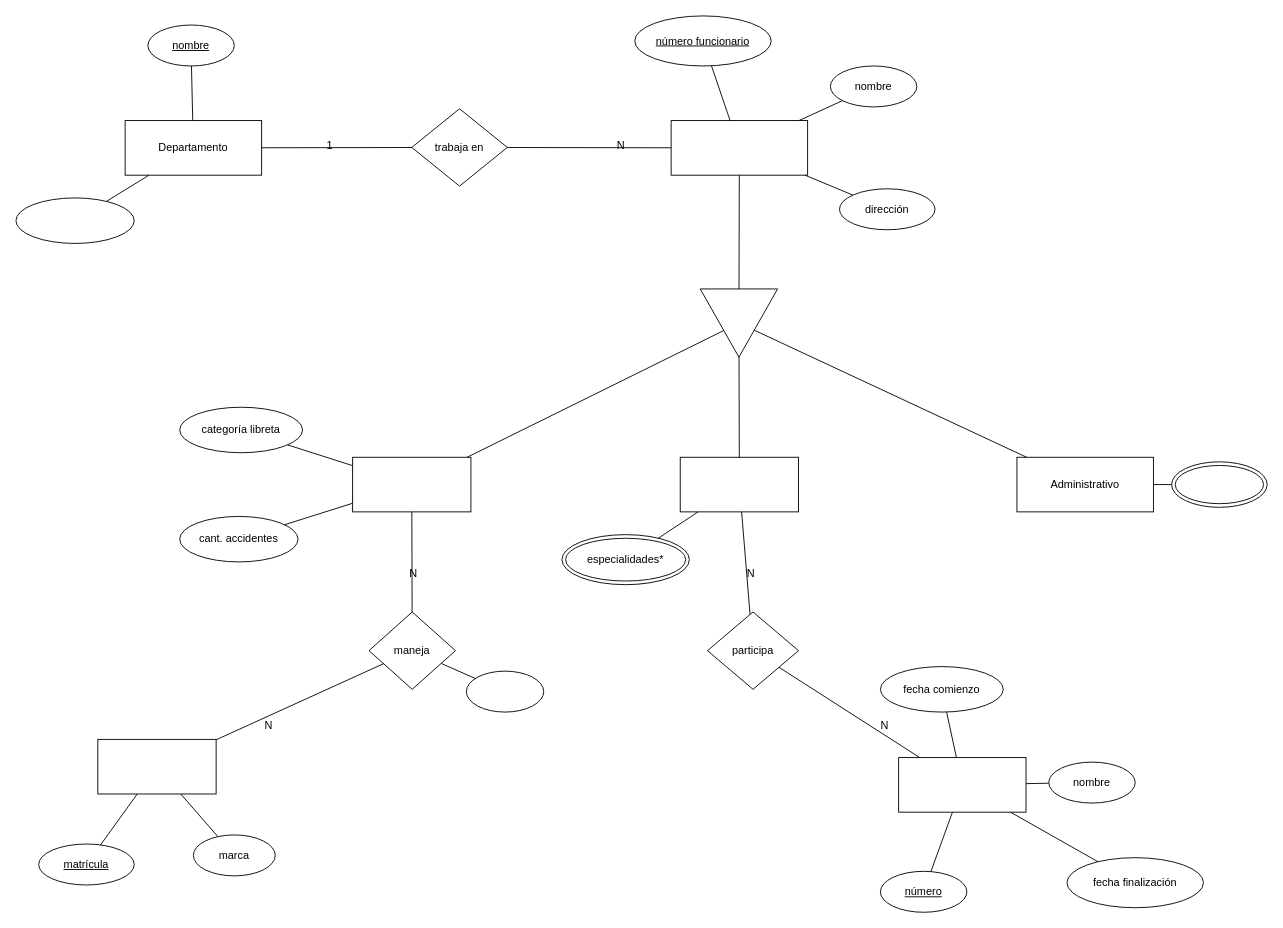
The diagram is 1283 pixels wide and 928 high, and some of its shapes have lost their labels. The shapes that lost their labels are listed below. From the top down, each one's centre as x and y in pixels, then its label:
(x=739, y=147): Funcionario
(x=74, y=220): número interno
(x=738, y=322): es
(x=411, y=484): Chofer
(x=739, y=484): Técnico
(x=1219, y=484): idiomas*
(x=504, y=691): fecha
(x=156, y=766): Coche
(x=962, y=784): Proyecto
